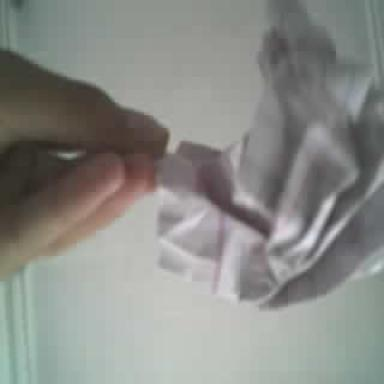paper: (158, 0, 383, 306)
